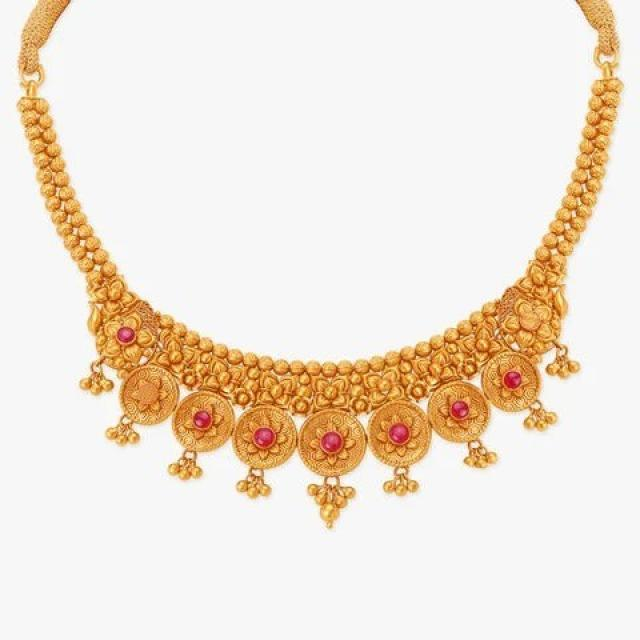missing gem: (137, 383, 158, 404), (522, 311, 539, 328)
